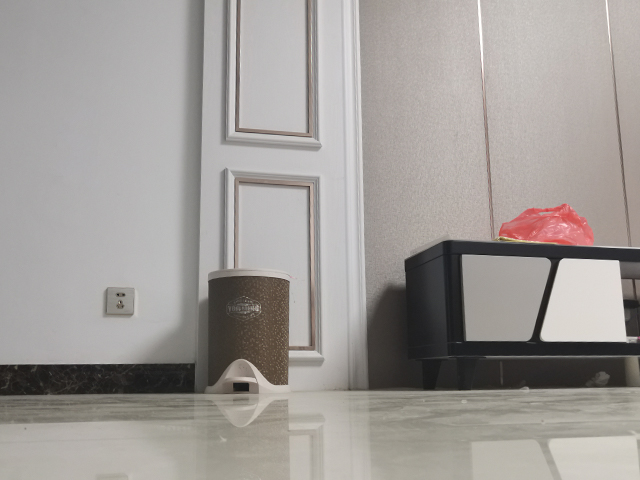cabinet: (401, 233, 640, 392)
trashcan: (201, 266, 295, 396)
